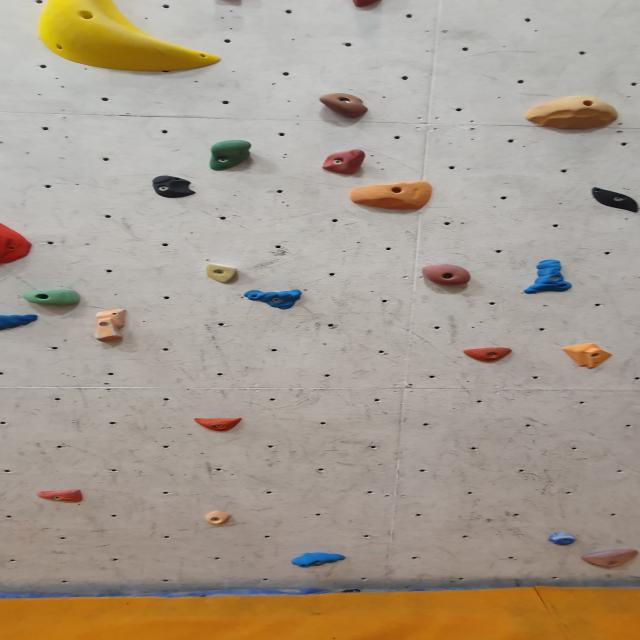Crimp: (0, 220, 35, 268), (577, 548, 640, 570), (241, 289, 304, 307), (290, 552, 349, 568), (1, 311, 43, 332), (461, 348, 516, 363), (191, 418, 248, 432), (203, 265, 242, 285), (32, 489, 87, 503), (202, 512, 234, 528), (546, 535, 580, 549)
Jug: (207, 139, 259, 171), (314, 92, 372, 120), (319, 151, 368, 178), (22, 287, 84, 308), (421, 265, 475, 288), (344, 0, 391, 10)
Pinch: (520, 254, 575, 294), (84, 304, 136, 346)
Sloper: (33, 0, 222, 71), (521, 94, 624, 133), (344, 183, 435, 213), (561, 344, 616, 370), (145, 176, 202, 200), (587, 189, 640, 214)
